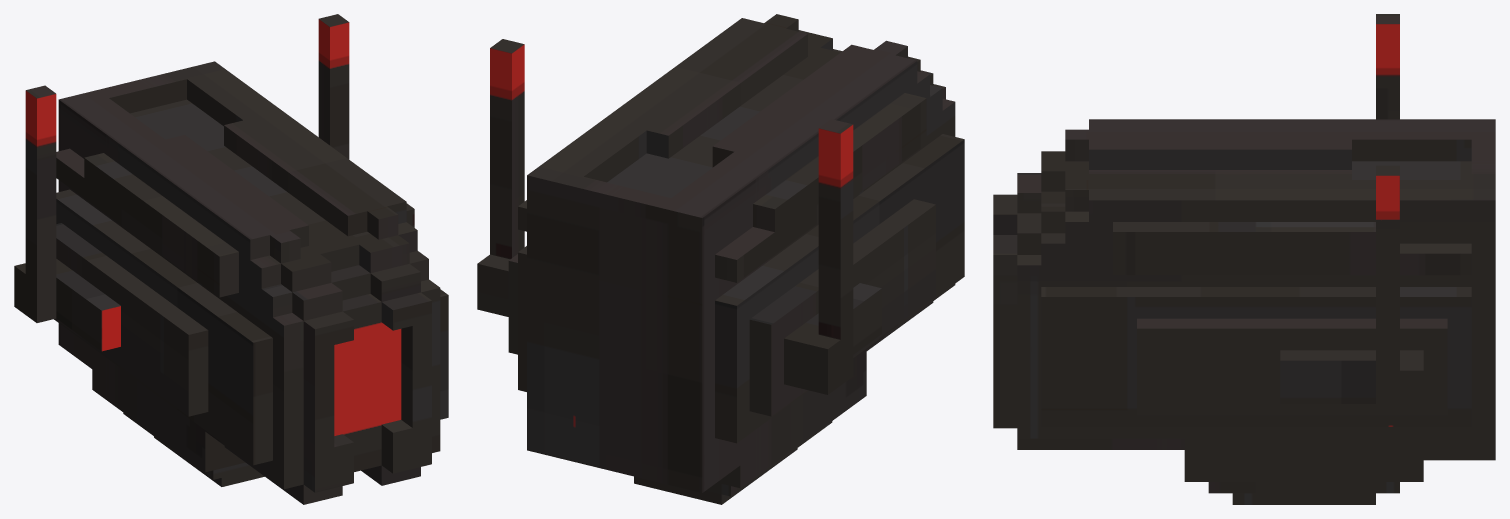
The model's file is Enemy_Hover_Head.obj.
3 renders of one model, left to right at view 1: azimuth 30°, elevation 25°; view 2: azimuth 150°, elevation 25°; view 3: azimuth 270°, elevation 25°, orthographic. The views are drawn at different scales.
Visible parts, largest first — view 1: Mech_-_Hovertime-1; view 2: Mech_-_Hovertime-1; view 3: Mech_-_Hovertime-1.
Boxes of the visible parts, x1=… form: Mech_-_Hovertime-1: x1=14, y1=14, x2=448, y2=504; Mech_-_Hovertime-1: x1=477, y1=14, x2=964, y2=504; Mech_-_Hovertime-1: x1=993, y1=14, x2=1495, y2=504.
Size of the model in its own units: 1.6 by 1.8 by 2.1.
1 material, 1 textured.
